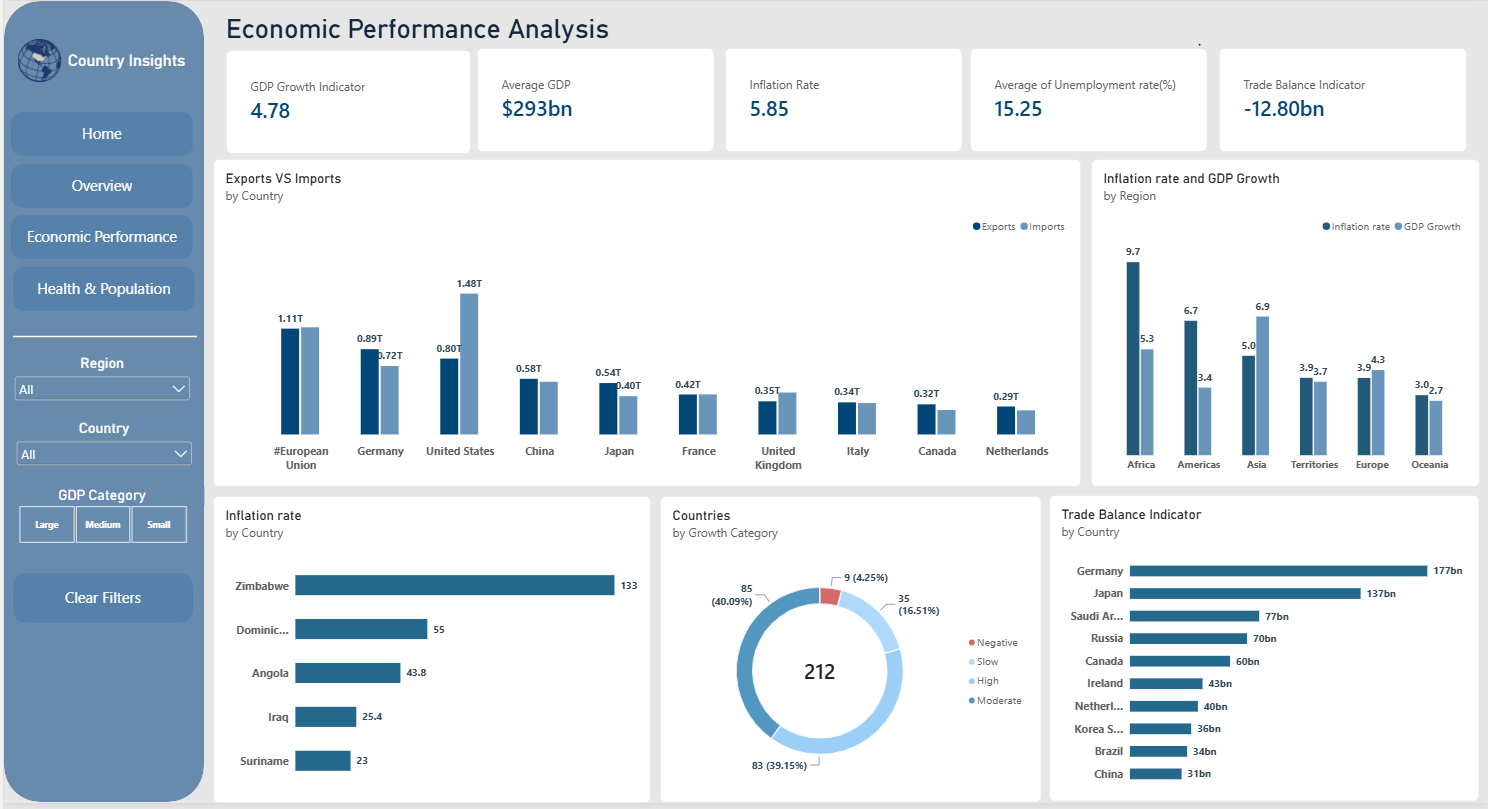

The page's visual inventory and layout, read from the dashboard file:
{"tool":"powerbi","page":{"name":"Economic Performance Analysis","canvas":[2000,1080],"ordinal":2},"visuals":[{"type":"shape","box":[0,0,269.5,1079.5],"z":0,"group":"g1"},{"type":"cardVisual","fields":{"Data":["DAX measures.Inflation Rate"]},"box":[971.3,63.7,320,140],"z":0},{"type":"image","box":[0,51.2,95.7,58],"z":1000,"group":"g1"},{"type":"cardVisual","fields":{"Data":["Avg(Country Data Comparison.Unemployment rate(%))"]},"box":[1302.5,63.7,320,140],"z":1000},{"type":"cardVisual","fields":{"Data":["DAX measures.Trade Balance Indicator"]},"box":[1636.9,63.7,334.2,140.2],"z":2000},{"type":"textbox","title":"Country Insights","box":[86.3,67.4,168.5,39.1],"z":2000,"group":"g1"},{"type":"cardVisual","fields":{"Data":["DAX measures.GDP Growth Indicator"]},"box":[299.2,66,330.2,140.2],"z":3000},{"type":"shape","box":[12.1,301.9,248,300.5],"z":3000,"group":"g1"},{"type":"group","id":"g1","title":"Group 1","box":[0,0,269.5,1079.5],"z":4000},{"type":"actionButton","box":[9.4,149.6,245.3,59.3],"z":5000},{"type":"actionButton","box":[9.4,219.7,245.3,59.3],"z":6000},{"type":"actionButton","box":[9.4,288.4,245.3,59.3],"z":7000},{"type":"actionButton","box":[12.1,358.5,245.3,59.3],"z":8000},{"type":"slicer","title":"Region","fields":{"Values":["Country Data Comparison.Country_Region_Mapping.Region"]},"box":[9.4,477.1,250.7,74.1],"z":9000},{"type":"slicer","title":"Country","fields":{"Values":["Country Data Comparison.Country"]},"box":[12.1,564.7,250.7,74.1],"z":10000},{"type":"slicer","title":"GDP Category","fields":{"Values":["Country Data Comparison.GDP Category"]},"box":[0,655,269.5,76.8],"z":11000},{"type":"textbox","title":"Economic Performance Analysis","box":[299.2,16.2,571.4,51.2],"z":12000},{"type":"clusteredColumnChart","title":" Exports VS Imports","fields":{"Category":["Country Data Comparison.Country"],"Y":["Sum(Country Data Comparison.Exports)","Sum(Country Data Comparison.Imports)"]},"box":[281.2,212.8,1170.2,442.2],"z":13000},{"type":"actionButton","box":[12.1,770.9,242.6,67.4],"z":14000},{"type":"cardVisual","fields":{"Data":["DAX measures.Average GDP"]},"box":[636.9,63.7,320,140],"z":15000},{"type":"donutChart","title":"Countries ","fields":{"Category":["Country Data Comparison.Growth Indicator Category"],"Y":["CountNonNull(Country Data Comparison.Country)"]},"box":[884.5,667.2,513.7,413.4],"z":16000},{"type":"clusteredBarChart","fields":{"Category":["Country Data Comparison.Country"],"Y":["Avg(Country Data Comparison.Inflation rate (consumer prices)(%))"]},"box":[281.2,667.2,590,413.6],"z":17000},{"type":"clusteredColumnChart","fields":{"Category":["Country Data Comparison.Region"],"Y":["Avg(Country Data Comparison.Inflation rate (consumer prices)(%))","DAX measures.GDP Growth Indicator"]},"box":[1465,212.8,524.3,442.2],"z":18000},{"type":"clusteredBarChart","fields":{"Category":["Country Data Comparison.Country"],"Y":["DAX measures.Trade Balance Indicator"]},"box":[1408.8,665.7,580,413],"z":19000}]}

Visuals, with their boxes in screenshot pixels (x1, y1, x2, y2), scaled from the page's 2000x1080 canvas onto the 1488x809 screenshot:
shape: bbox(0, 0, 201, 808)
cardVisual - DAX measures.Inflation Rate: bbox(723, 48, 961, 153)
image: bbox(0, 38, 71, 82)
cardVisual - Avg(Country Data Comparison.Unemployment rate(%)): bbox(969, 48, 1207, 153)
cardVisual - DAX measures.Trade Balance Indicator: bbox(1218, 48, 1466, 153)
"Country Insights" textbox: bbox(64, 50, 190, 80)
cardVisual - DAX measures.GDP Growth Indicator: bbox(223, 49, 468, 154)
shape: bbox(9, 226, 194, 451)
"Group 1" group: bbox(0, 0, 201, 808)
actionButton: bbox(7, 112, 189, 156)
actionButton: bbox(7, 165, 189, 209)
actionButton: bbox(7, 216, 189, 260)
actionButton: bbox(9, 269, 192, 313)
"Region" slicer: bbox(7, 357, 194, 413)
"Country" slicer: bbox(9, 423, 196, 479)
"GDP Category" slicer: bbox(0, 491, 201, 548)
"Economic Performance Analysis" textbox: bbox(223, 12, 648, 50)
" Exports VS Imports" clusteredColumnChart: bbox(209, 159, 1080, 491)
actionButton: bbox(9, 577, 189, 628)
cardVisual - DAX measures.Average GDP: bbox(474, 48, 712, 153)
"Countries " donutChart: bbox(658, 500, 1040, 808)
clusteredBarChart - Country Data Comparison.Country x Avg(Country Data Comparison.Inflation rate (consumer prices)(%)): bbox(209, 500, 648, 808)
clusteredColumnChart - Country Data Comparison.Region x Avg(Country Data Comparison.Inflation rate (consumer prices)(%)): bbox(1090, 159, 1480, 491)
clusteredBarChart - Country Data Comparison.Country x DAX measures.Trade Balance Indicator: bbox(1048, 499, 1480, 808)
